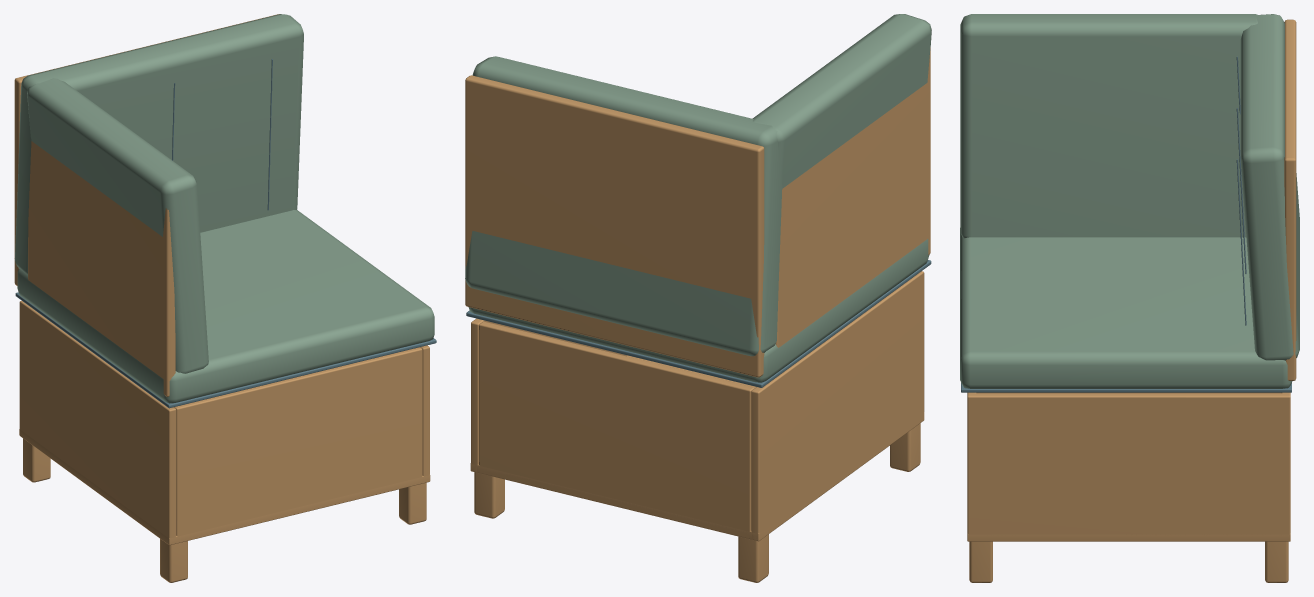
The model's file is dining-banquette-corner.glb.
3 renders of one model, left to right at view 1: azimuth 30°, elevation 25°; view 2: azimuth 150°, elevation 25°; view 3: azimuth 270°, elevation 25°, orthographic. The views are drawn at different scales.
Parts seen in each view (by area): view 1: dining-banquette-corner authored assembly; view 2: dining-banquette-corner authored assembly; view 3: dining-banquette-corner authored assembly.
Boxes of the visible parts, <box> form: dining-banquette-corner authored assembly: <box>14,14,436,582</box>; dining-banquette-corner authored assembly: <box>465,14,931,582</box>; dining-banquette-corner authored assembly: <box>960,14,1299,582</box>.
Bounding box in the file's own units: 0.65 × 0.92 × 0.65.
